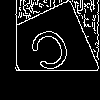C: (25, 25, 79, 83)
